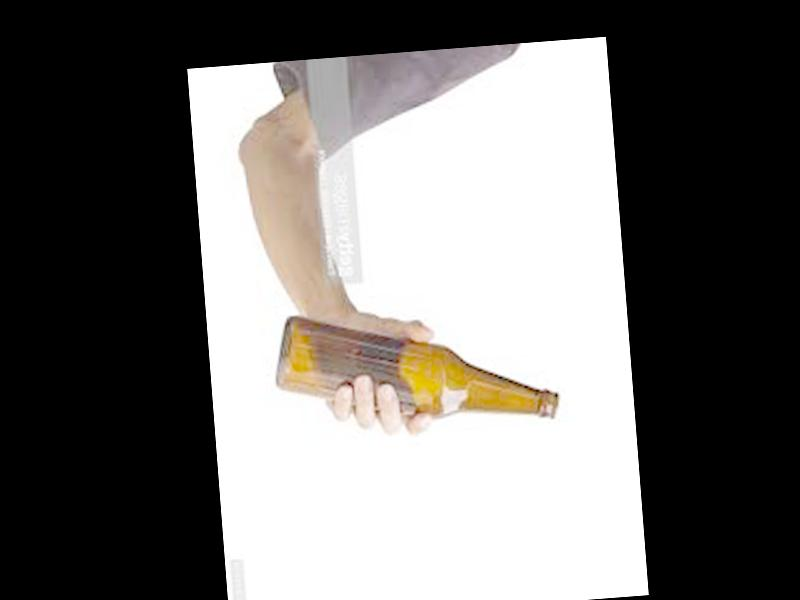Beer: (272, 293, 559, 439)
